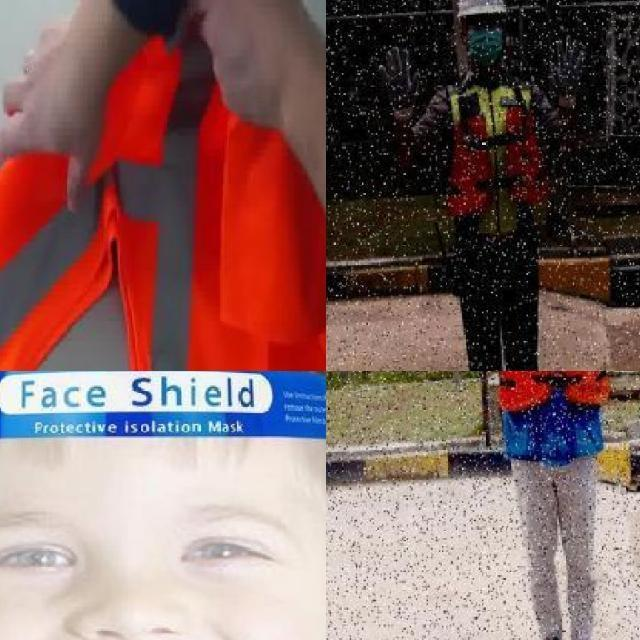apron: (377, 46, 422, 122), (548, 35, 588, 108)
